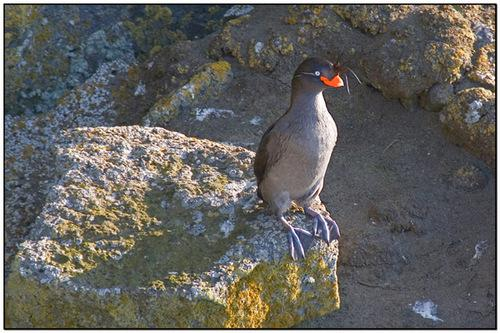005.Crested_Auklet: (253, 56, 361, 261)
